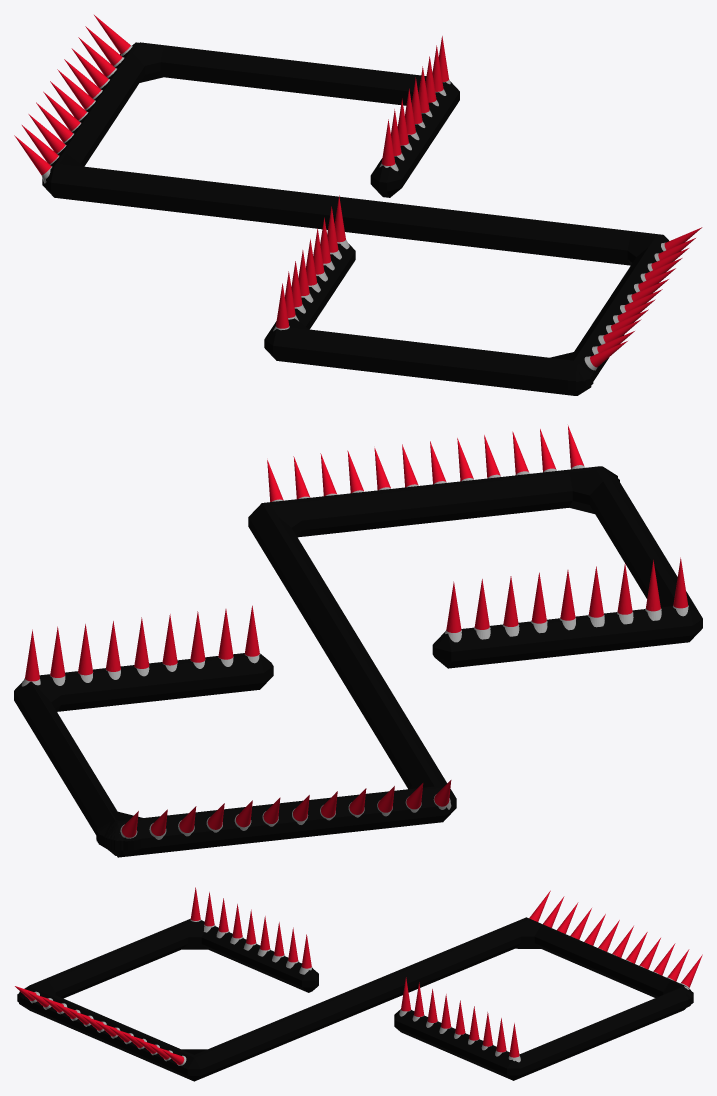
Rendered from kapan9.fbx.
3 renders of one model, top to bottom at view 1: azimuth 30°, elevation 25°; view 2: azimuth 150°, elevation 25°; view 3: azimuth 270°, elevation 25°, orthographic. The views are drawn at different scales.
Parts seen in each view (by area): view 1: Cube; view 2: Cube; view 3: Cube.
Boxes of the visible parts, x1,y1,x2,y2 form: Cube: (42, 42, 668, 395); Cube: (14, 466, 702, 857); Cube: (17, 917, 693, 1081).
Bounding box in the file's own units: 60.5 × 10.44 × 113.
